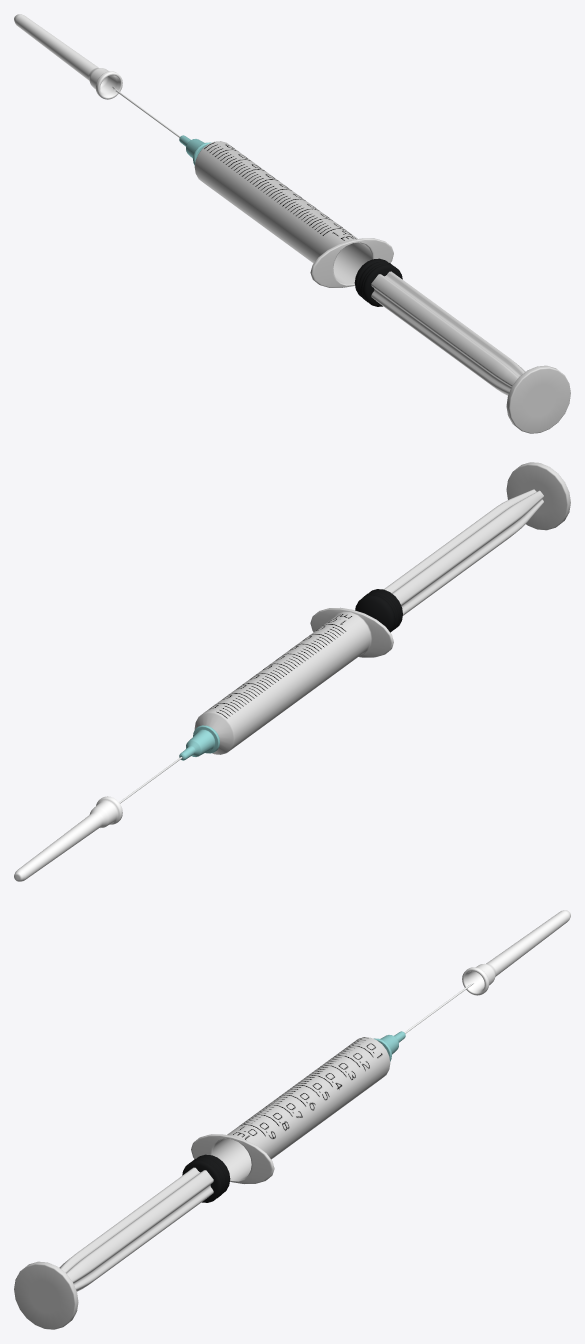
Rendered from Syringe_Large.fbx.
The picture shows the model from 3 angles, top to bottom: view 1: azimuth 30°, elevation 25°; view 2: azimuth 150°, elevation 25°; view 3: azimuth 330°, elevation 25°; orthographic projection.
Visible parts, largest first — view 1: Syringe_Large, Syringe_Large_Inner_dup_2_Shape, Syringe_Large_Cap_dup_2_Shape; view 2: Syringe_Large, Syringe_Large_Inner_dup_2_Shape, Syringe_Large_Cap_dup_2_Shape; view 3: Syringe_Large, Syringe_Large_Inner_dup_2_Shape, Syringe_Large_Cap_dup_2_Shape.
Part boxes in pixels (bbox=[...]): Syringe_Large: bbox=[112, 86, 393, 287]; Syringe_Large_Inner_dup_2_Shape: bbox=[354, 258, 570, 433]; Syringe_Large_Cap_dup_2_Shape: bbox=[14, 14, 122, 99]; Syringe_Large: bbox=[119, 607, 393, 803]; Syringe_Large_Inner_dup_2_Shape: bbox=[355, 462, 570, 632]; Syringe_Large_Cap_dup_2_Shape: bbox=[14, 796, 122, 881]; Syringe_Large: bbox=[191, 983, 473, 1184]; Syringe_Large_Inner_dup_2_Shape: bbox=[14, 1154, 230, 1329]; Syringe_Large_Cap_dup_2_Shape: bbox=[462, 910, 570, 995].
Size of the model in its own units: 4.65 by 3.48 by 50.9.
2 materials, 1 textured.
